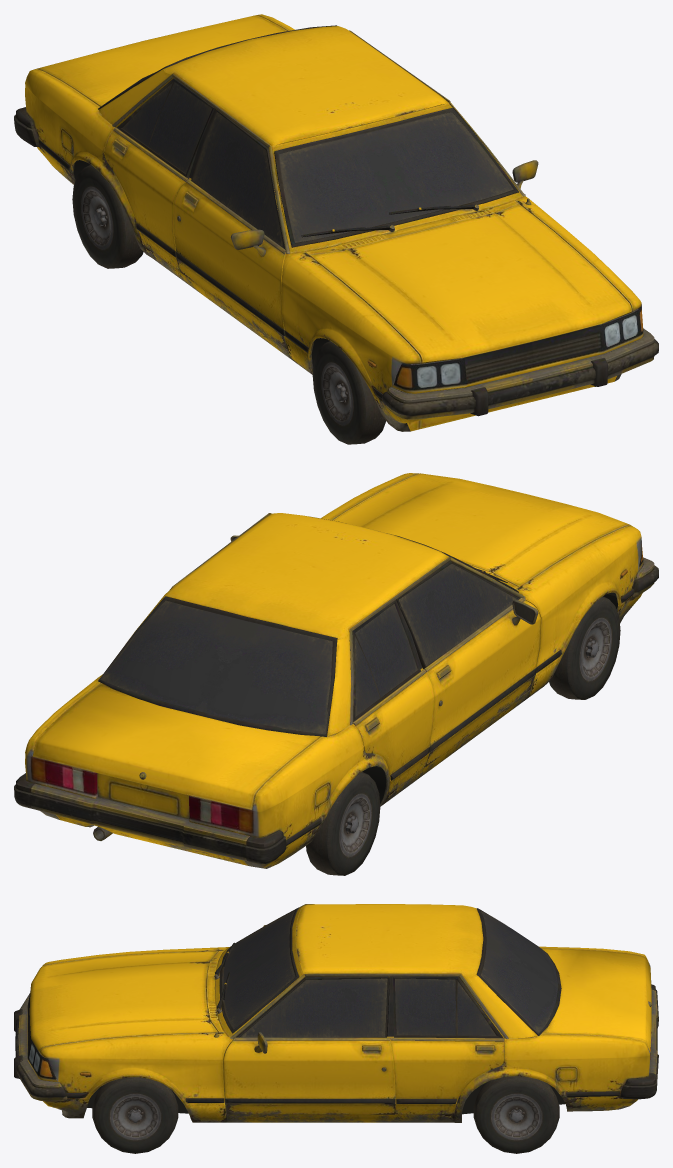
File: taxi-yellow.fbx
3 views of the same model, one above another, from view 1: azimuth 30°, elevation 25°; view 2: azimuth 150°, elevation 25°; view 3: azimuth 270°, elevation 25° (orthographic). The views are drawn at different scales.
Parts seen in each view (by area): view 1: Taxi; view 2: Taxi; view 3: Taxi.
Boxes of the visible parts, bbox=[...] form: Taxi: bbox=[14, 14, 658, 444]; Taxi: bbox=[14, 473, 658, 875]; Taxi: bbox=[14, 904, 658, 1153].
Size of the model in its own units: 201 by 137 by 460.
3 materials, 3 textured.
